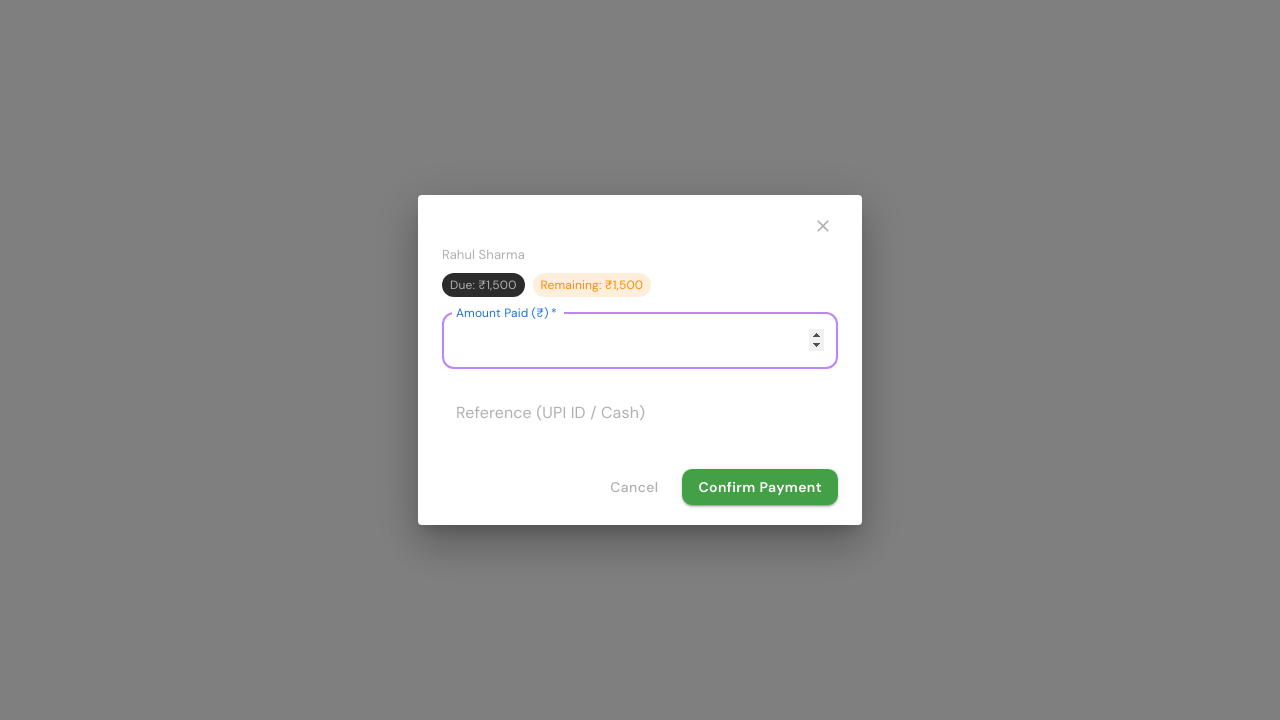
MarkPaymentModal › shows API error when markPayment fails
Click the button "Confirm Payment" at [760, 487], box [682, 468, 838, 505]
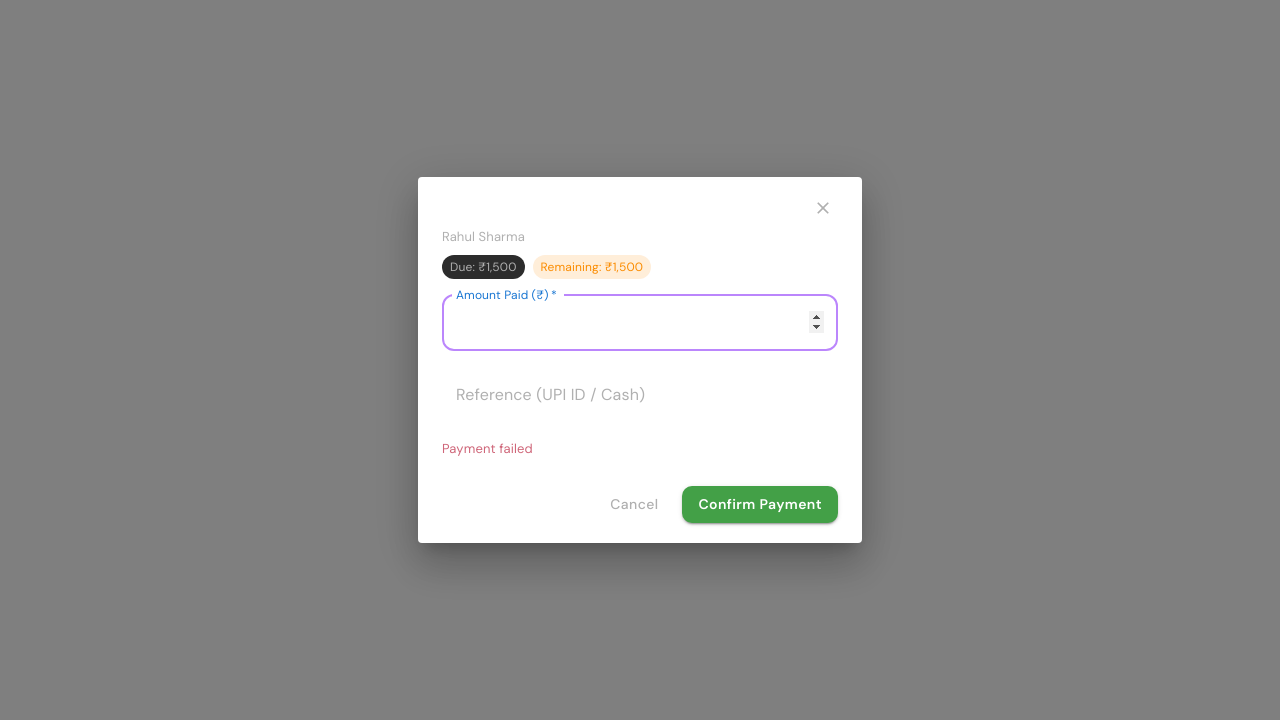
Now the text "Payment failed" is shown, box [442, 440, 533, 457]
